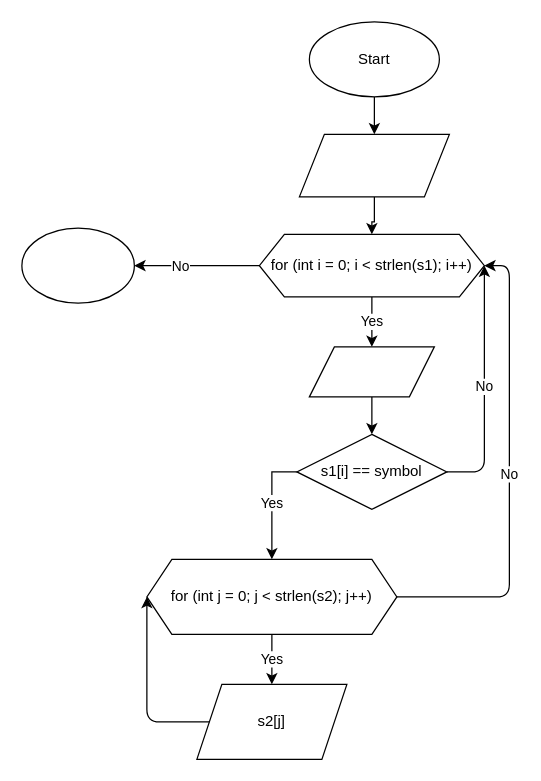
The diagram is 541 pixels wide and 781 high, and some of its shapes have lost their labels. Here are the shapes that lost their labels. From the top down, the centre of each, then its label:
At point 373,165: "s1, s2, symbol".
At point 77,265: "End".
At point 371,371: "s1[i]".
